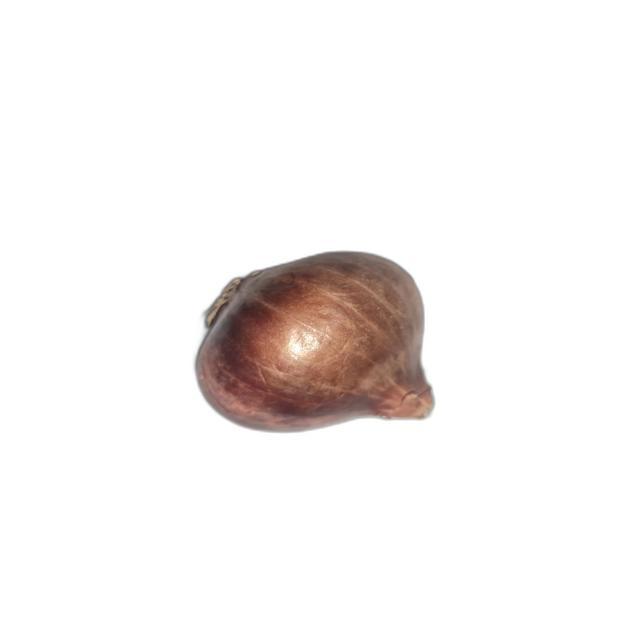onion: (194, 250, 438, 434)
